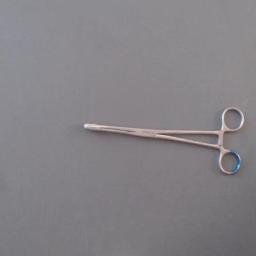Sponge Forceps: (78, 102, 248, 182)
